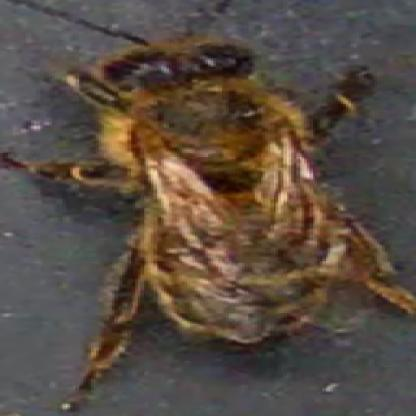bee: (48, 32, 374, 359)
